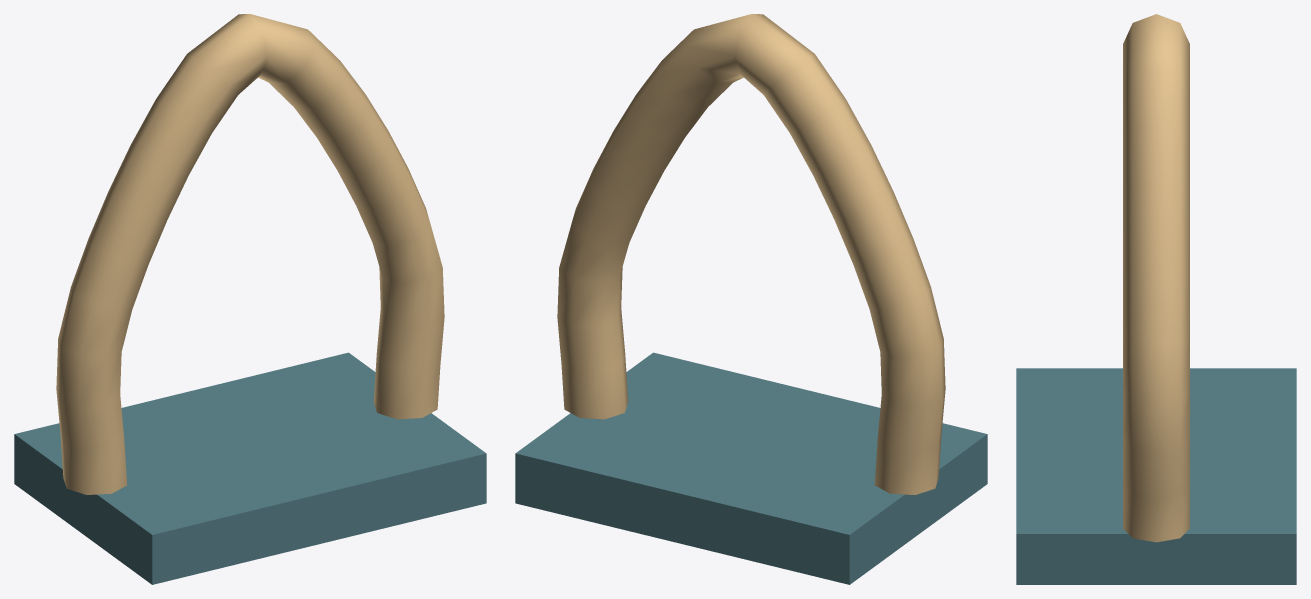
The picture shows the model from 3 angles, left to right: view 1: azimuth 30°, elevation 25°; view 2: azimuth 150°, elevation 25°; view 3: azimuth 270°, elevation 25°; orthographic projection.
Visible parts, largest first — view 1: arch-base, arch-curve; view 2: arch-base, arch-curve; view 3: arch-base, arch-curve.
Part boxes in pixels (left/top/right/bottom): arch-base: left=14, top=352, right=486, bottom=584; arch-curve: left=56, top=14, right=444, bottom=494; arch-base: left=515, top=352, right=987, bottom=584; arch-curve: left=557, top=14, right=945, bottom=494; arch-base: left=1016, top=368, right=1296, bottom=584; arch-curve: left=1123, top=14, right=1189, bottom=542.
Bounding box in the file's own units: 0.1598 × 0.192 × 0.1.
